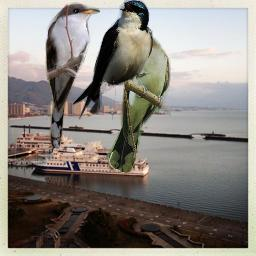Cuckoo: (108, 30, 171, 173), (44, 2, 100, 148)
Swallow: (72, 0, 153, 120)
